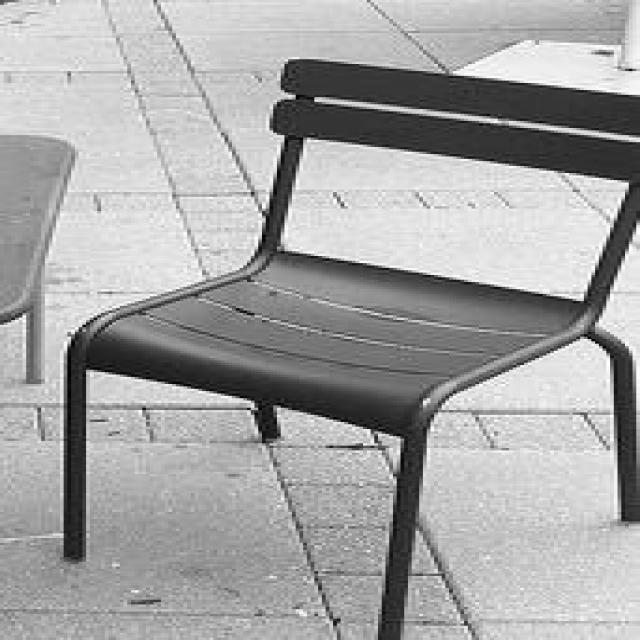chair: (59, 14, 636, 638), (0, 126, 76, 384)
